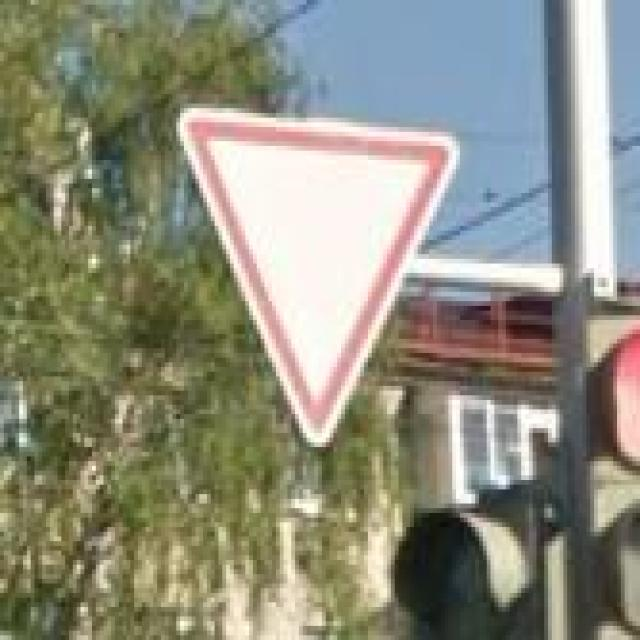Ustap pierwszenstwa: (176, 104, 460, 452)
